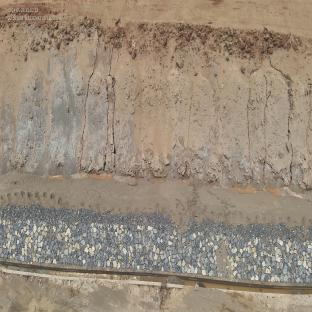rock_toe: (0, 214, 312, 283)
toe_drain: (1, 259, 312, 300)
